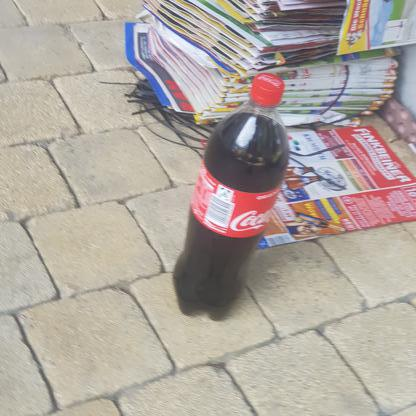coca-cola: (170, 72, 289, 329)
